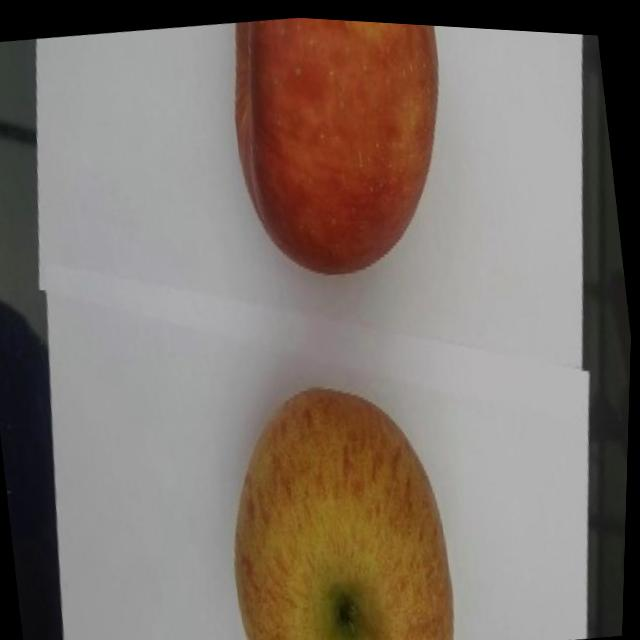Apple: (209, 362, 469, 640), (217, 10, 468, 290)
